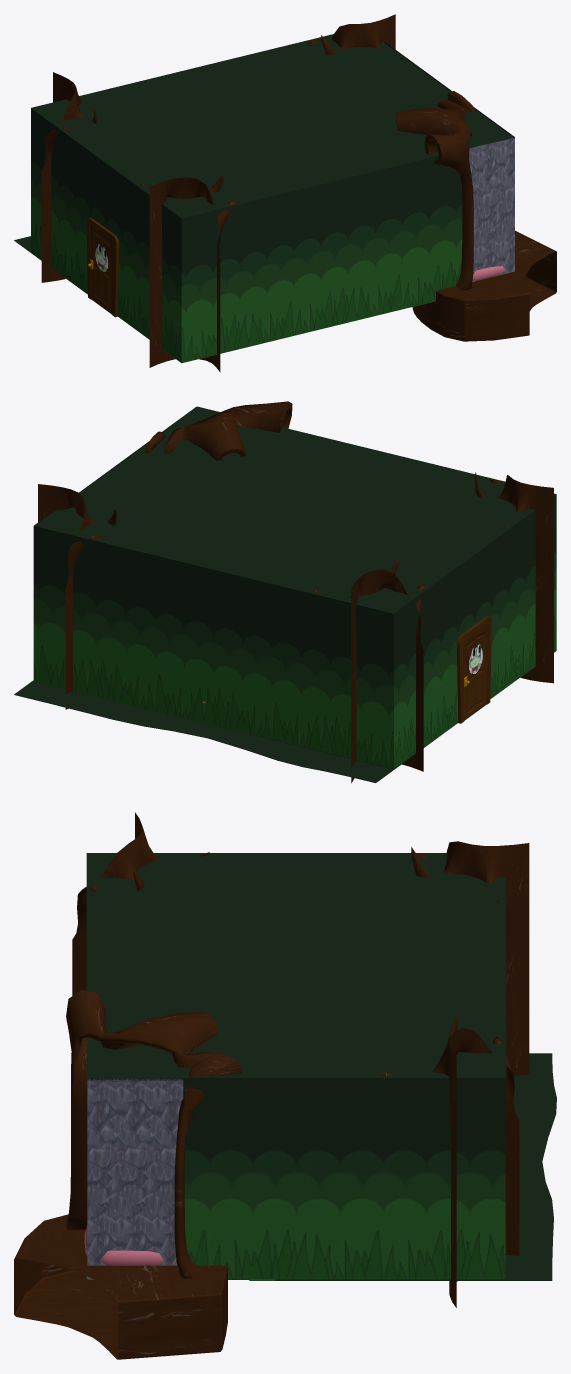
File: ribbits-room.glb
The picture shows the model from 3 angles, top to bottom: view 1: azimuth 30°, elevation 25°; view 2: azimuth 150°, elevation 25°; view 3: azimuth 270°, elevation 25°; orthographic projection. The views are drawn at different scales.
Parts seen in each view (by area): view 1: Walls, Ceiling, Circle.001, Circle.002, Cube.001, Cube.002, Cube.011, Door Slab, Door Frame, Wall Trims; view 2: Walls, Ceiling, Rug, Cube.001, Circle.002, Cube.002, Cube.011, Door Slab, Door Frame, Wall Trims; view 3: Ceiling, Walls, Circle.001, Circle.002, Rug, Cube.002, Cube.011, Cube.001, Wall Trims, Circle.006.
Part boxes in pixels (box(x1,y1,x2,y2)): Walls: box(31, 108, 514, 362); Ceiling: box(31, 34, 513, 218); Circle.001: box(412, 230, 556, 341); Circle.002: box(396, 91, 475, 289); Cube.001: box(141, 174, 237, 372); Cube.002: box(41, 72, 110, 282); Cube.011: box(308, 14, 404, 59); Door Slab: box(88, 225, 113, 314); Door Frame: box(86, 218, 118, 317); Wall Trims: box(73, 41, 514, 362); Walls: box(33, 408, 556, 769); Ceiling: box(35, 406, 556, 613); Rug: box(14, 680, 444, 782); Cube.001: box(475, 472, 553, 683); Circle.002: box(145, 401, 292, 460); Cube.002: box(313, 559, 424, 783); Cube.011: box(38, 484, 116, 709); Door Slab: box(463, 624, 488, 720); Door Frame: box(456, 616, 491, 723); Wall Trims: box(34, 406, 506, 768); Ceiling: box(86, 853, 506, 1077); Walls: box(87, 1078, 505, 1279); Circle.001: box(14, 1214, 227, 1359); Circle.002: box(66, 990, 241, 1278); Rug: box(249, 1053, 556, 1280); Cube.002: box(411, 841, 529, 1075); Cube.011: box(382, 1013, 519, 1307); Cube.001: box(72, 812, 209, 995); Wall Trims: box(87, 1078, 505, 1279); Circle.006: box(84, 1225, 164, 1265).
Bounding box in the file's own units: 13.34 × 6.37 × 11.26.
57 materials, 48 textured.
